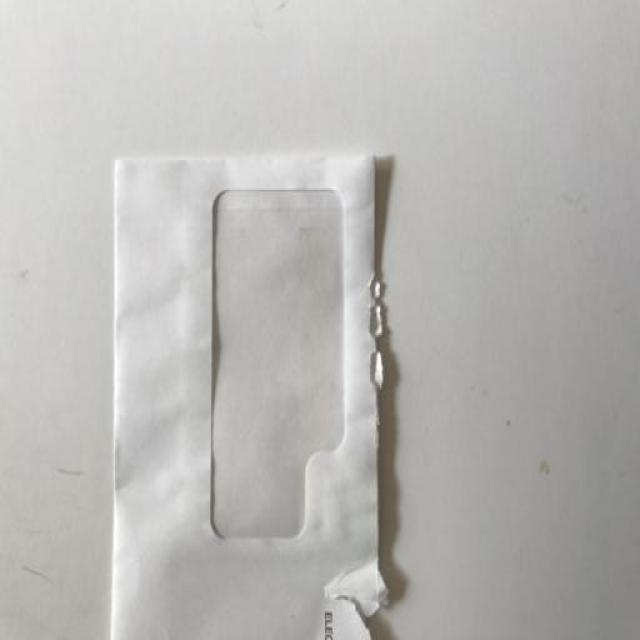paper: (77, 77, 443, 640)
